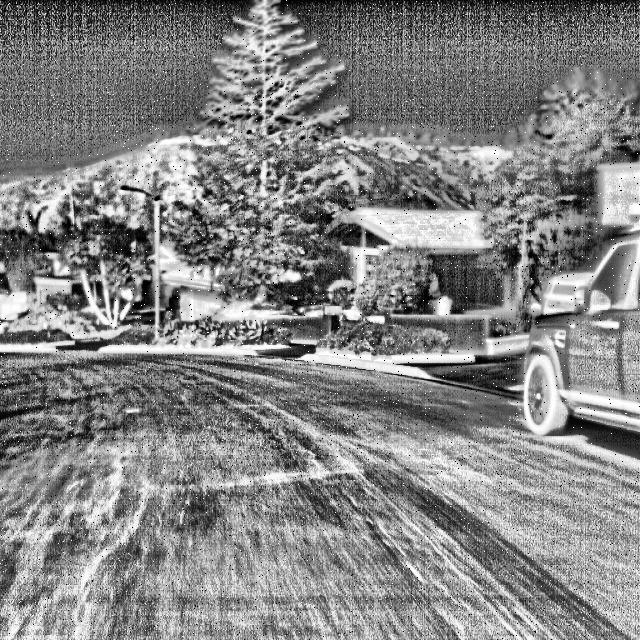car: (508, 242, 640, 453)
